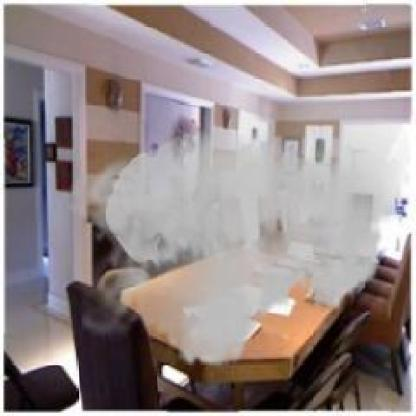Smoke: (59, 27, 411, 380)
